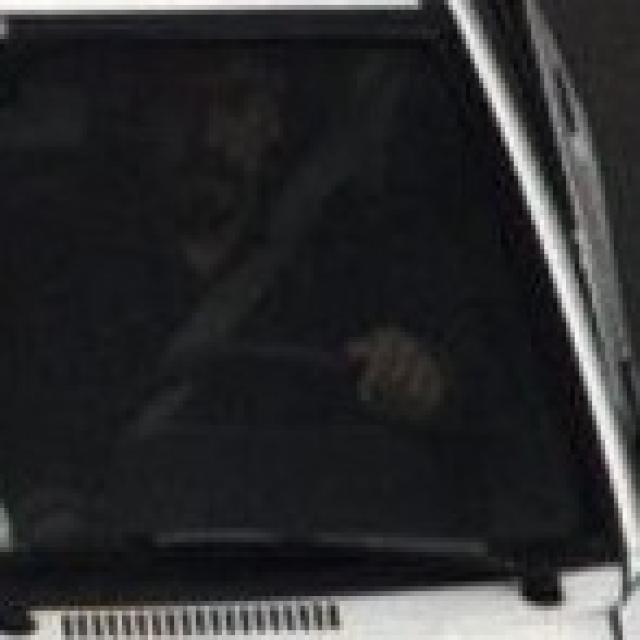windshield: (32, 19, 634, 603)
